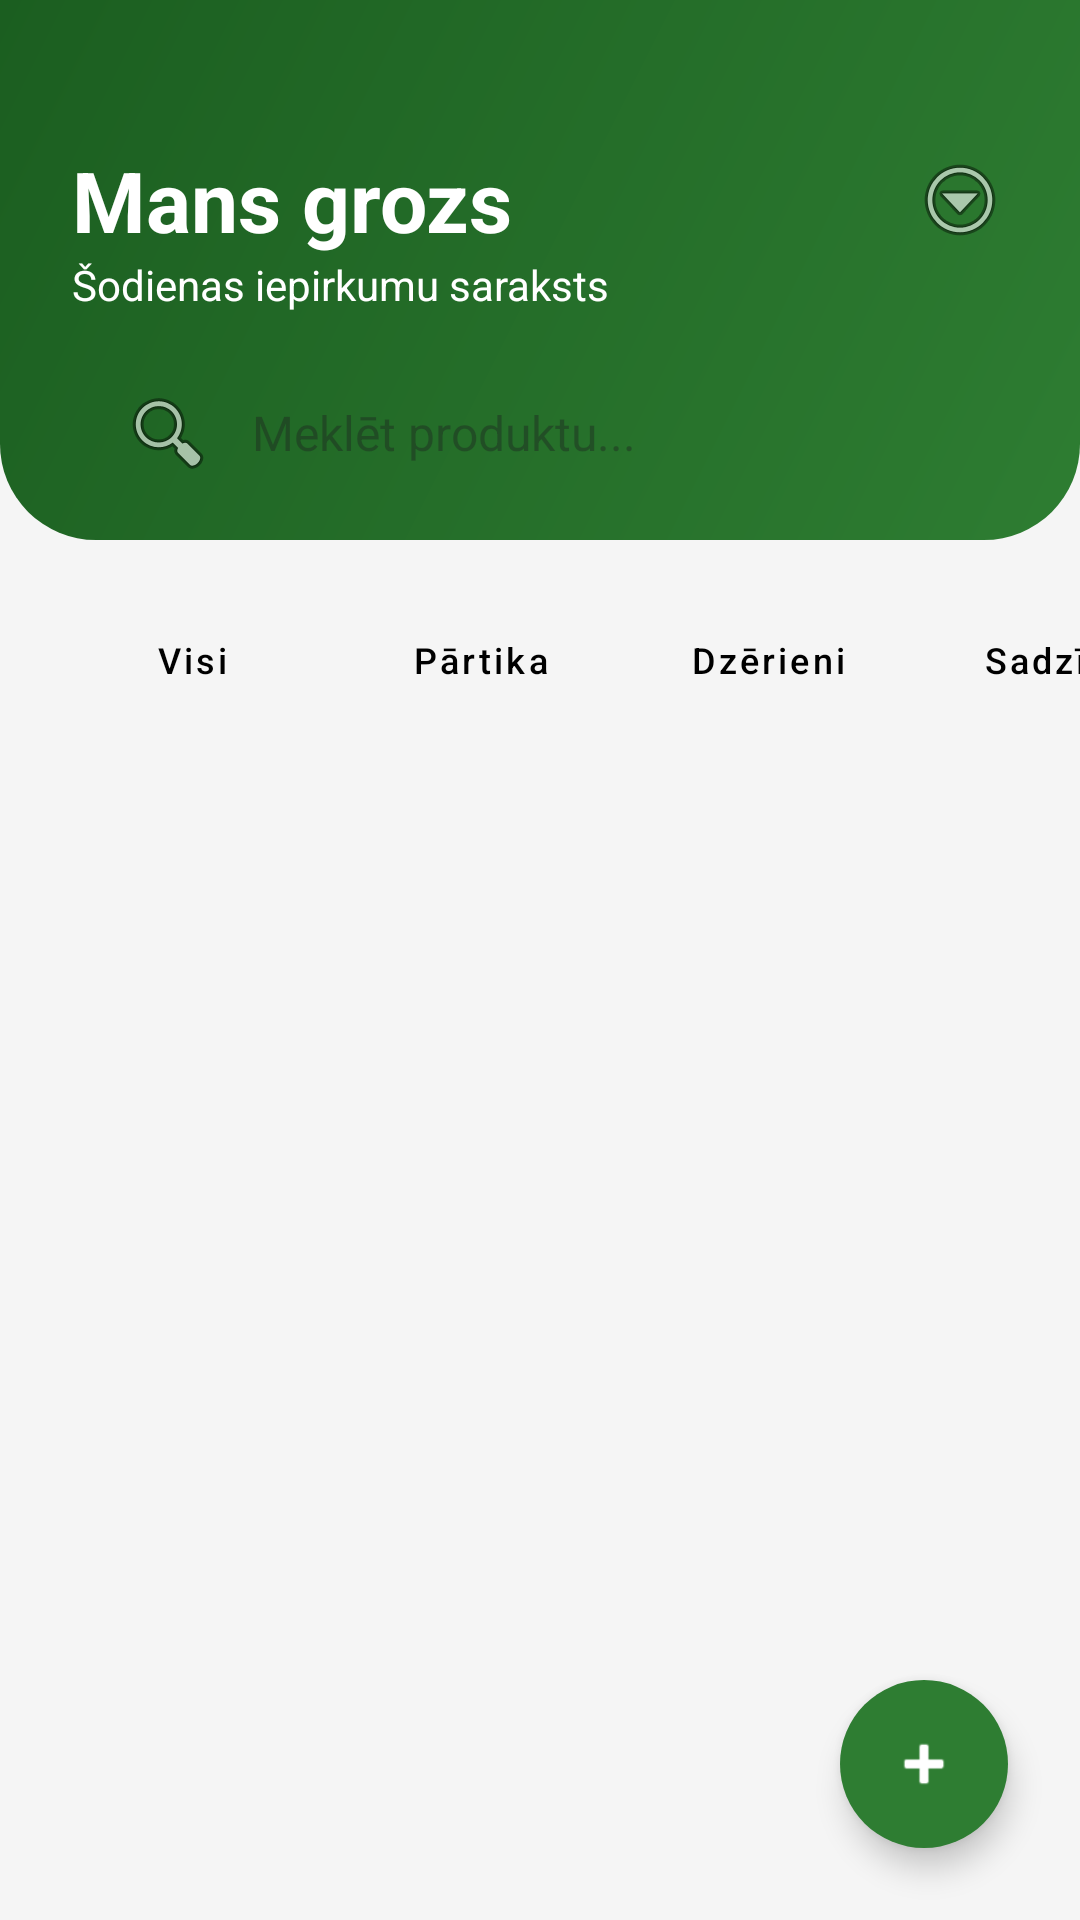

Icon click points for this 1080px×1920px phone screenshot, format point (x, y):
Izvēlne: point (960, 200)
Pievienot produktu: point (924, 1764)
